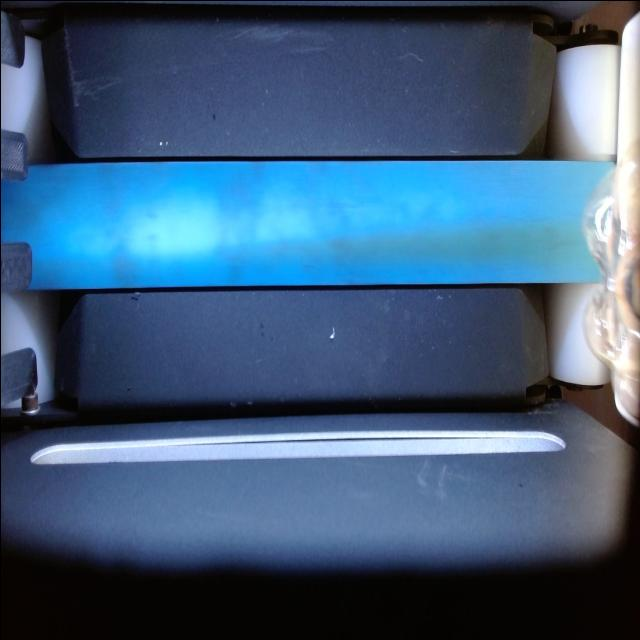bottle: (582, 158, 640, 422)
